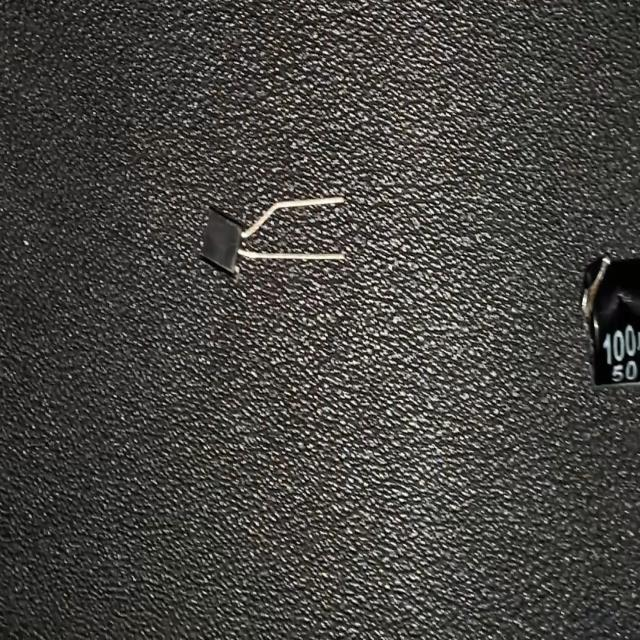capacitor: (578, 252, 640, 393)
cracked: (597, 289, 640, 338), (582, 255, 608, 322)
missing-leg: (200, 194, 347, 282)
